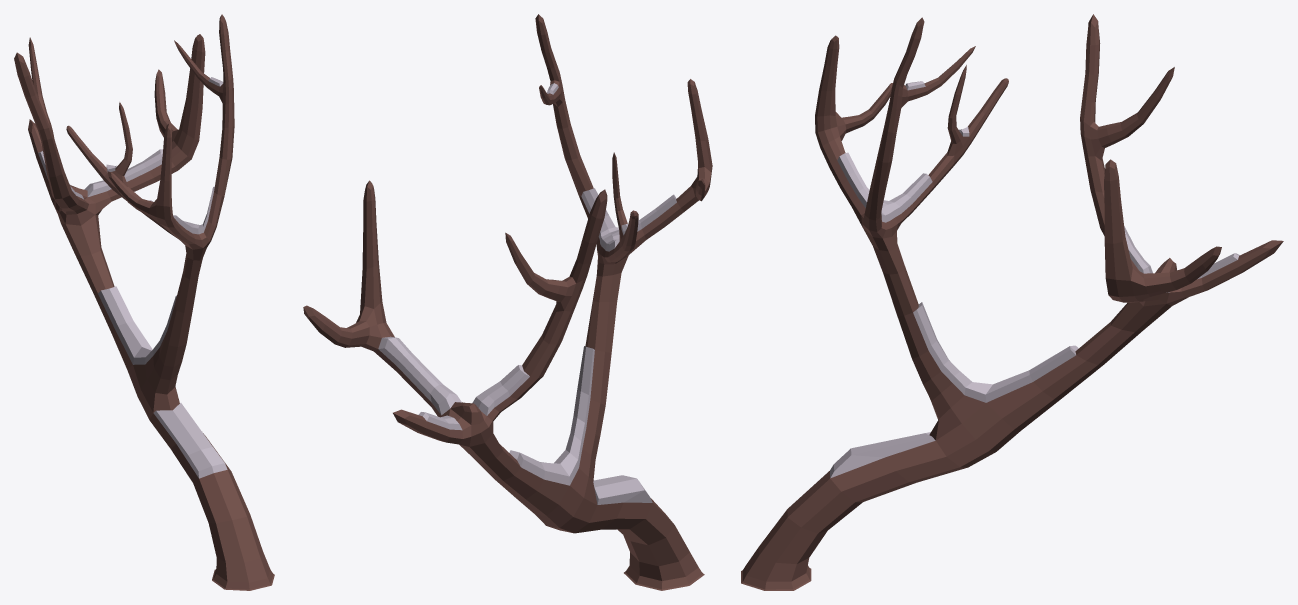
The model's file is Willow_Dead_Snow_2.glb.
3 views of the same model, side by side, from view 1: azimuth 30°, elevation 25°; view 2: azimuth 150°, elevation 25°; view 3: azimuth 270°, elevation 25° (orthographic). The views are drawn at different scales.
Parts seen in each view (by area): view 1: Willow_Dead_Snow_2; view 2: Willow_Dead_Snow_2; view 3: Willow_Dead_Snow_2.
Part boxes in pixels (bbox=[...]): Willow_Dead_Snow_2: bbox=[14, 14, 274, 590]; Willow_Dead_Snow_2: bbox=[303, 14, 712, 590]; Willow_Dead_Snow_2: bbox=[741, 14, 1283, 590].
Size of the model in its own units: 1.17 by 2.84 by 2.4.
